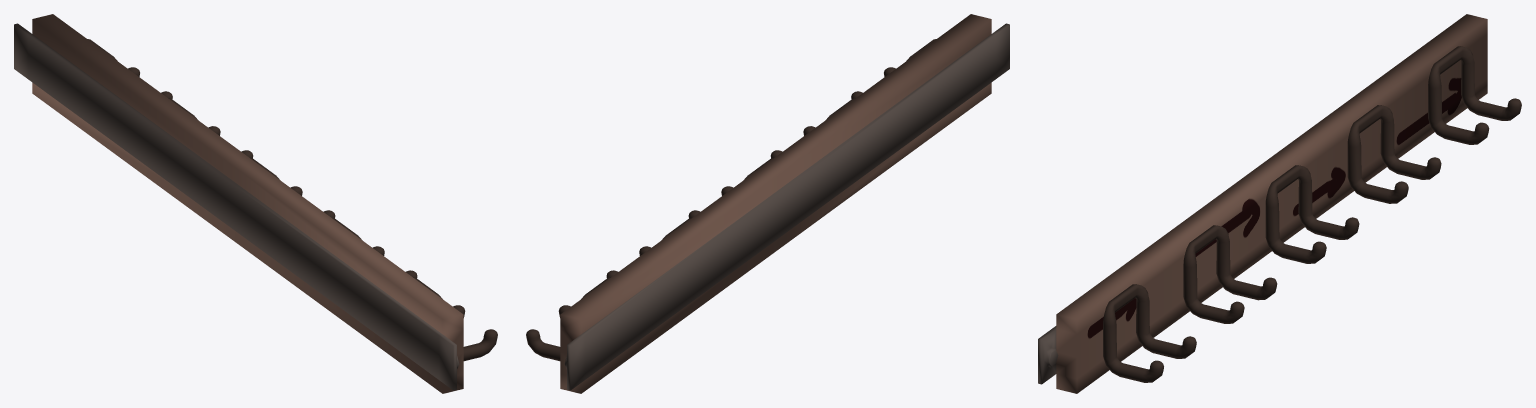
The model's file is IsacRooftopGarden_Assets.fbx.
3 views of the same model, side by side, from view 1: azimuth 30°, elevation 25°; view 2: azimuth 150°, elevation 25°; view 3: azimuth 330°, elevation 25° (orthographic).
Parts seen in each view (by area): view 1: ToolRack; view 2: ToolRack; view 3: ToolRack.
Boxes of the visible parts, bbox=[...] form: ToolRack: bbox=[14, 14, 497, 393]; ToolRack: bbox=[526, 14, 1009, 393]; ToolRack: bbox=[1038, 14, 1521, 393].
Size of the model in its own units: 23.61 by 20 by 214.
